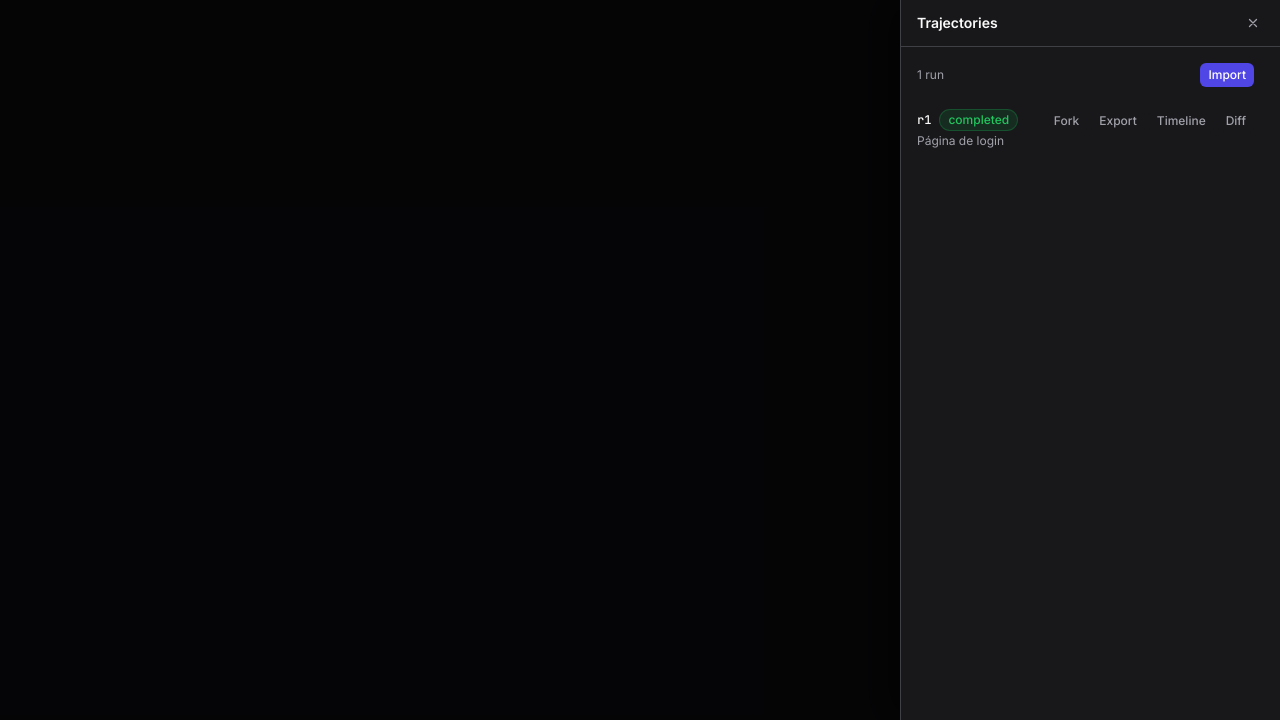
Test: TrajectoriesPanel (Fase C) › fork flow: POST fork → sucesso mostra a nova run e registra no store
The width and height of the screenshot is (1280, 720).
Step 1. Click the button "Fork" → (1066, 121), box 1046,109 -> 1087,133
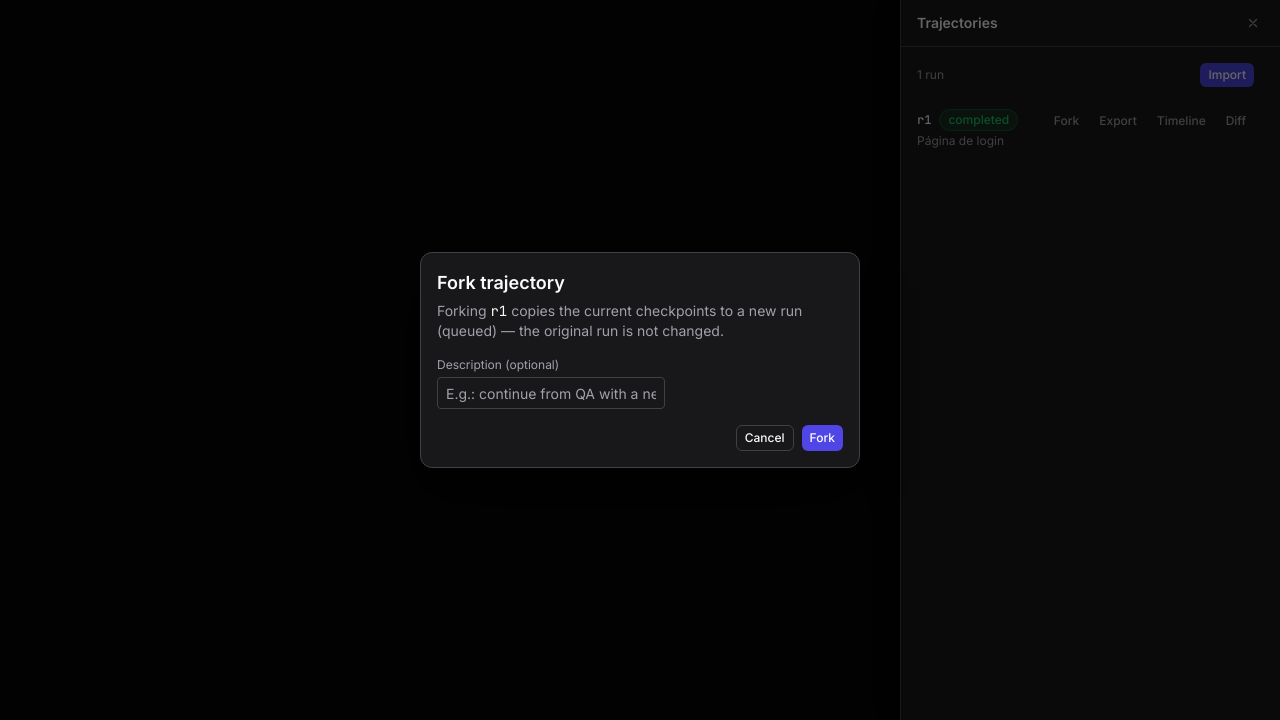
Step 2. Click the button "Fork" → (822, 438), box 802,425 -> 843,451
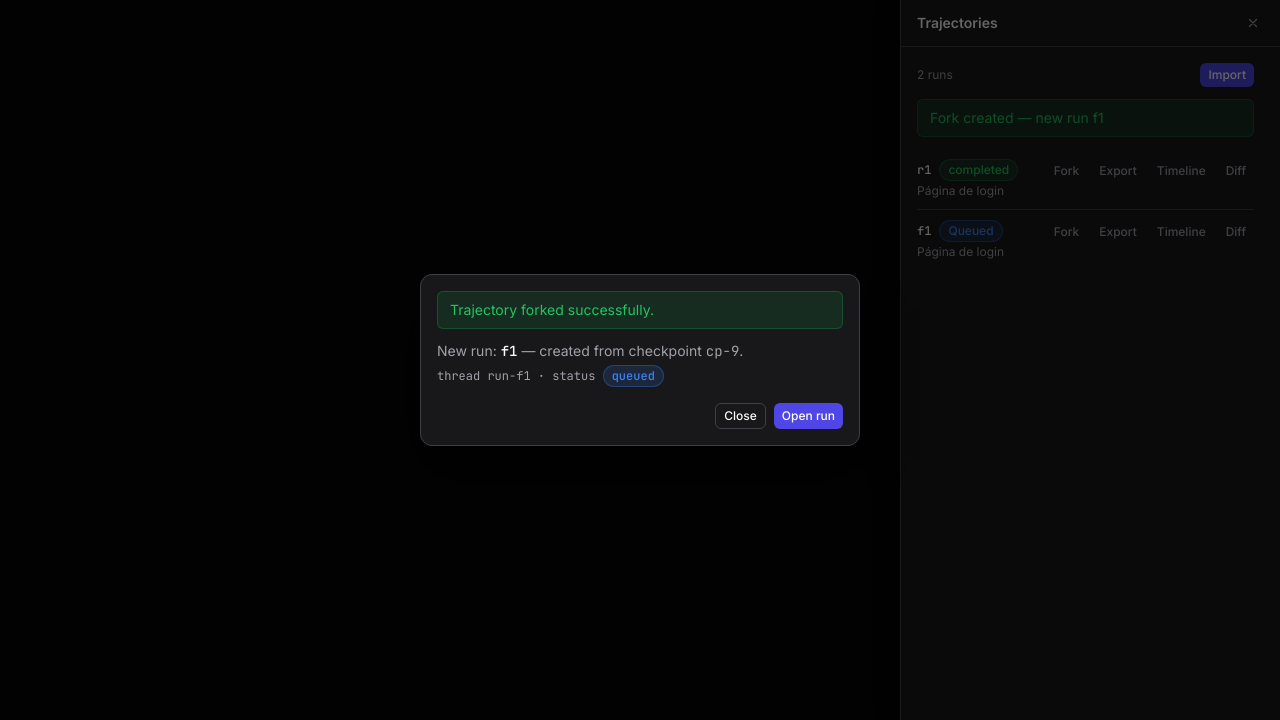
Expected: the text with test id "fork-run-id" reads "f1", 501,342 -> 518,360
